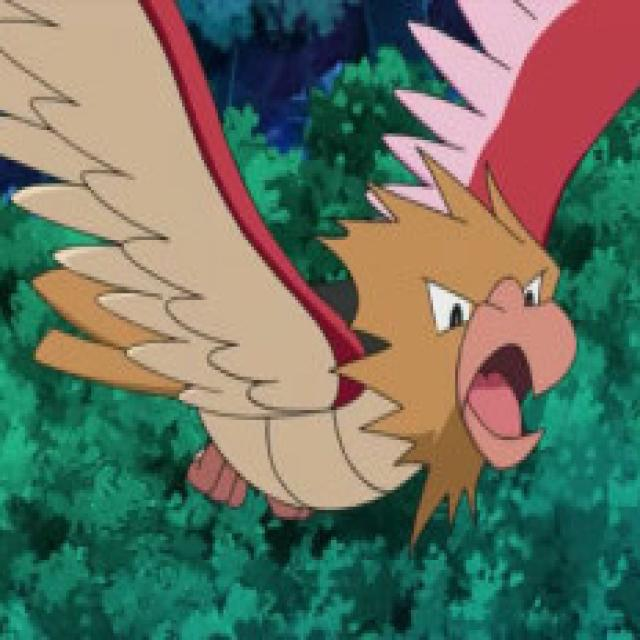Spearow: (124, 128, 576, 499)
